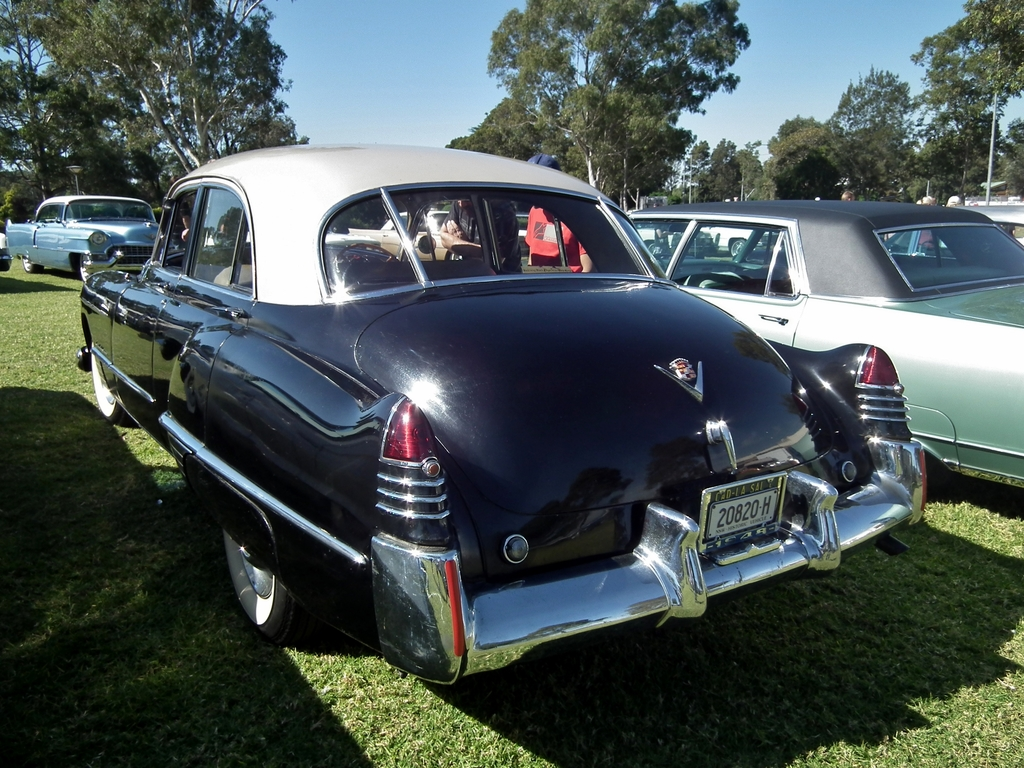mobil: (92, 140, 898, 704)
